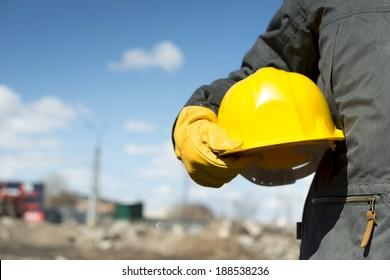gloves: (173, 105, 257, 188)
